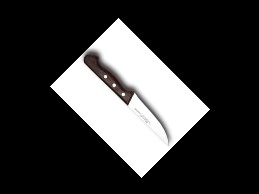k1: (122, 89, 171, 147)
